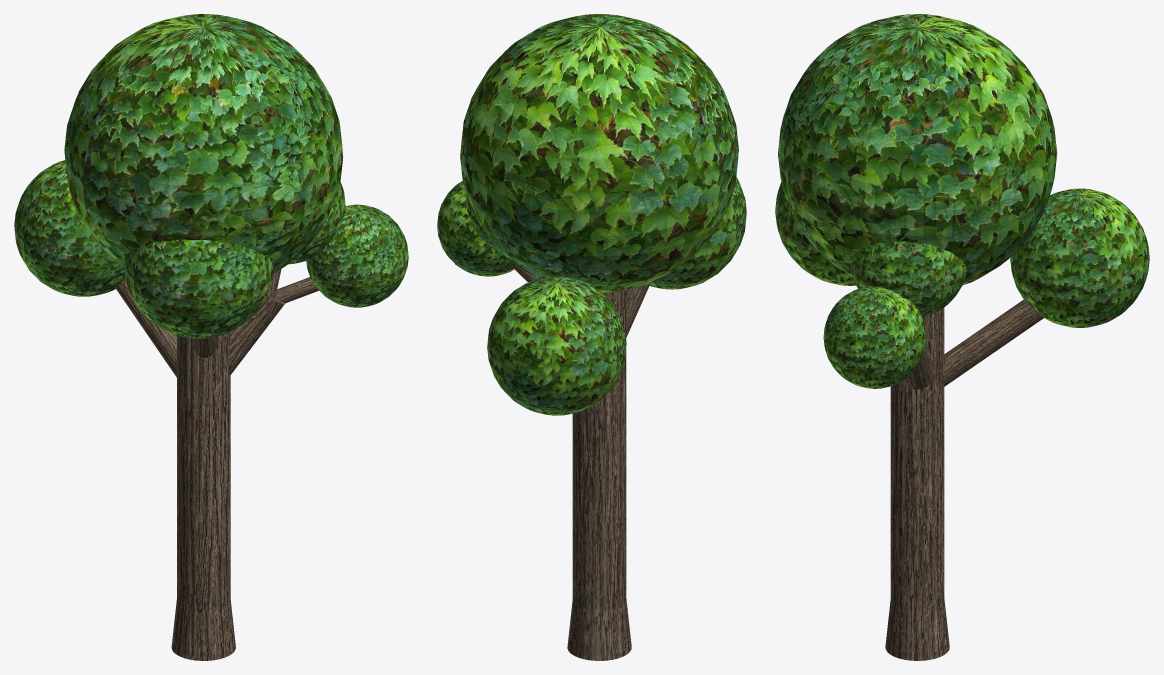
File: happylittletree.glb
The picture shows the model from 3 angles, left to right: view 1: azimuth 30°, elevation 25°; view 2: azimuth 150°, elevation 25°; view 3: azimuth 270°, elevation 25°; orthographic projection.
Visible parts, largest first — view 1: Sphere, Cylinder, Sphere.001, Sphere.004, Sphere.003, Cylinder.003, Cylinder.001, Sphere.002, Cylinder.005; view 2: Sphere, Sphere.004, Cylinder, Sphere.003, Sphere.001, Cylinder.002; view 3: Sphere, Cylinder, Sphere.004, Sphere.003, Sphere.002, Cylinder.001, Sphere.001, Cylinder.003.
Boxes of the visible parts, bbox=[...] form: Sphere: bbox=[64, 14, 343, 273]; Cylinder: bbox=[171, 332, 235, 660]; Sphere.001: bbox=[124, 239, 273, 338]; Sphere.004: bbox=[14, 160, 125, 296]; Sphere.003: bbox=[306, 204, 408, 307]; Cylinder.003: bbox=[228, 294, 284, 374]; Cylinder.001: bbox=[115, 279, 176, 377]; Sphere.002: bbox=[288, 182, 345, 264]; Cylinder.005: bbox=[275, 277, 318, 303]; Sphere: bbox=[460, 14, 738, 292]; Sphere.004: bbox=[487, 276, 626, 415]; Cylinder: bbox=[567, 290, 631, 660]; Sphere.003: bbox=[437, 181, 514, 276]; Sphere.001: bbox=[647, 177, 746, 289]; Cylinder.002: bbox=[626, 285, 649, 337]; Sphere: bbox=[778, 14, 1057, 284]; Cylinder: bbox=[885, 307, 949, 660]; Sphere.004: bbox=[1010, 188, 1149, 327]; Sphere.003: bbox=[823, 286, 926, 388]; Sphere.002: bbox=[850, 241, 966, 316]; Cylinder.001: bbox=[943, 299, 1043, 386]; Sphere.001: bbox=[775, 182, 855, 285]; Cylinder.003: bbox=[901, 343, 933, 389].
Size of the model in its own units: 3.2 by 6.37 by 3.49.
Materials: 2 (2 with a texture image).
